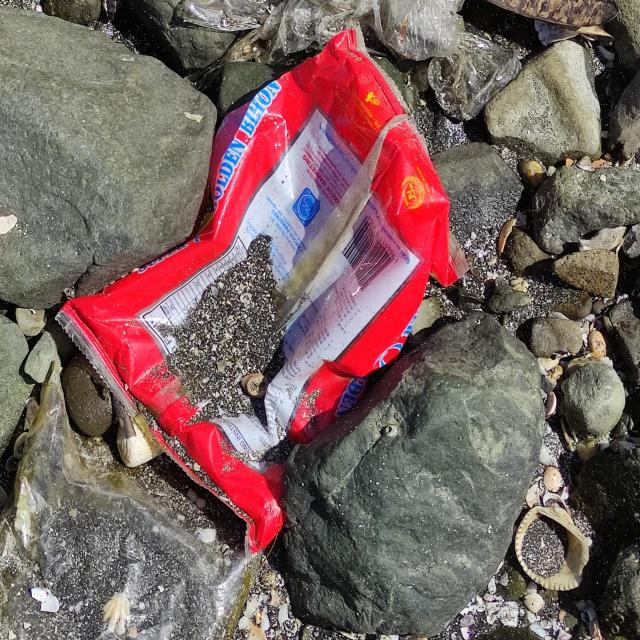plastic_waste: (55, 23, 471, 562)
